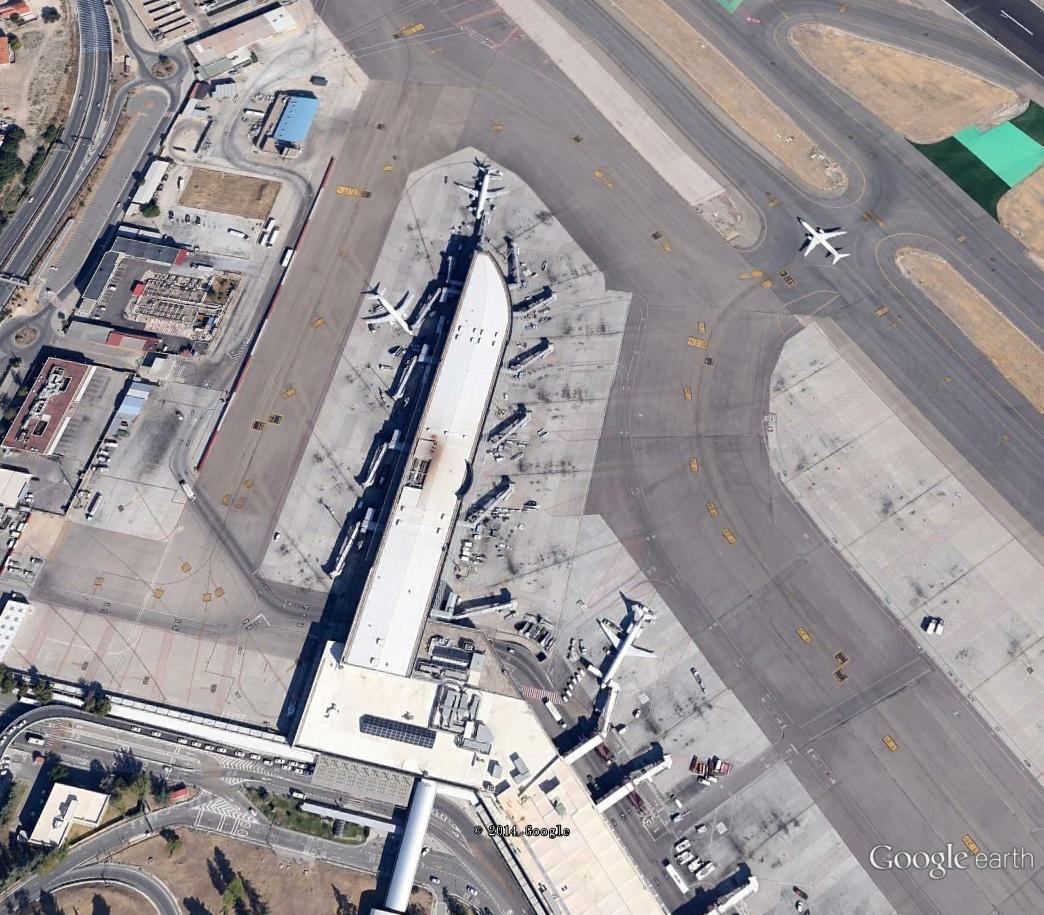aircraft: (592, 600, 663, 693), (792, 211, 856, 271), (451, 162, 514, 222), (360, 282, 423, 337)
